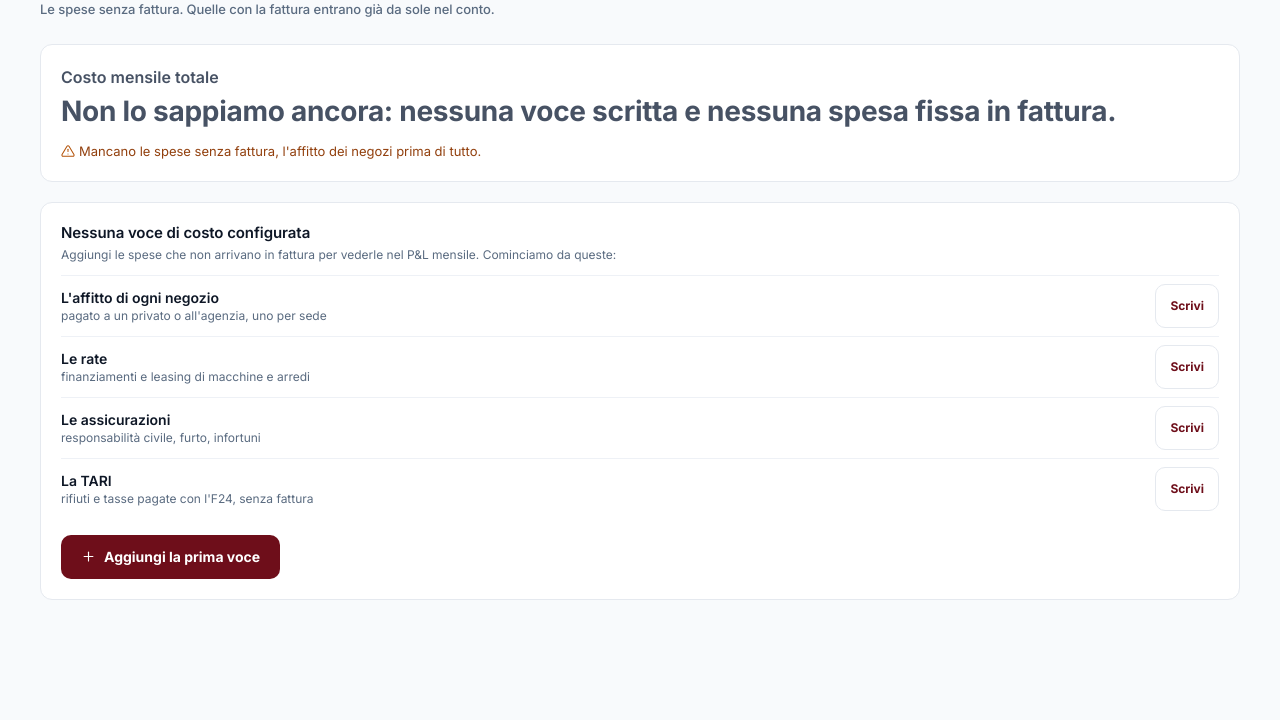
Costi fissi · ogni comando si raggiunge da tastiera › Esc chiude la finestra della voce
Click the button with aria-label "Aggiungi nuova voce di costo" at [171, 556], box [61, 534, 280, 578]
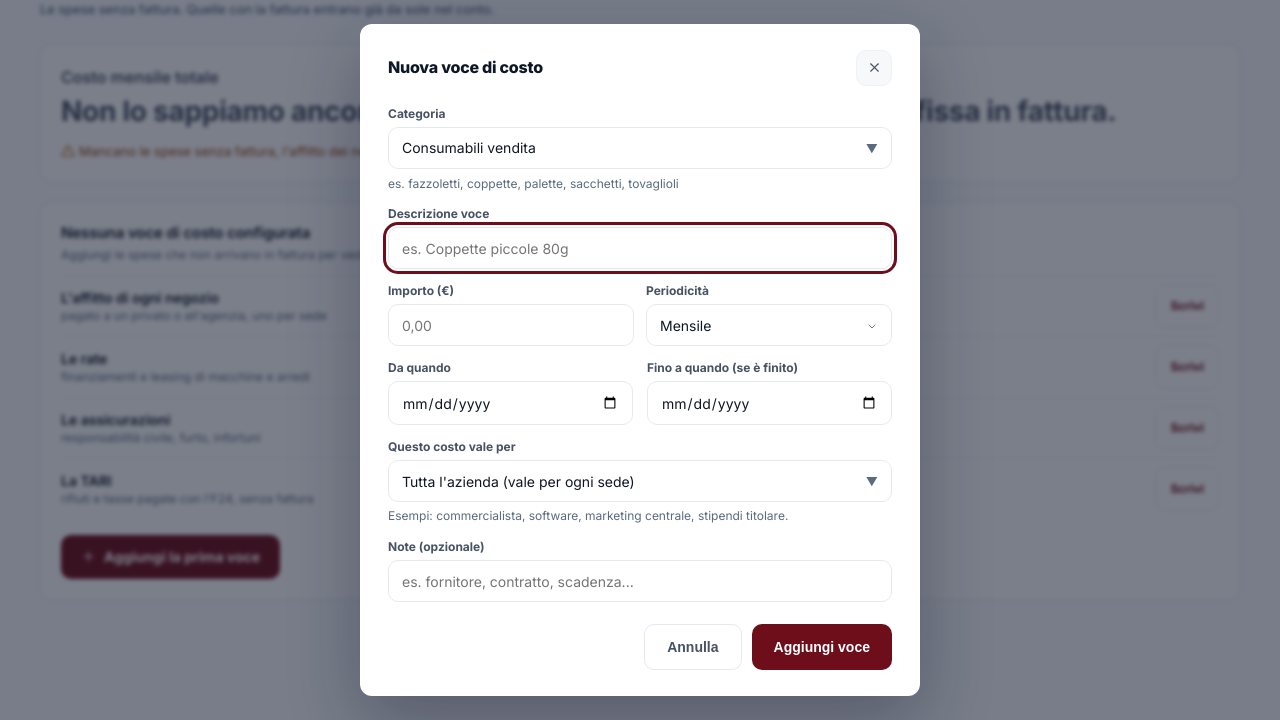
Now the dialog is shown
Press Escape
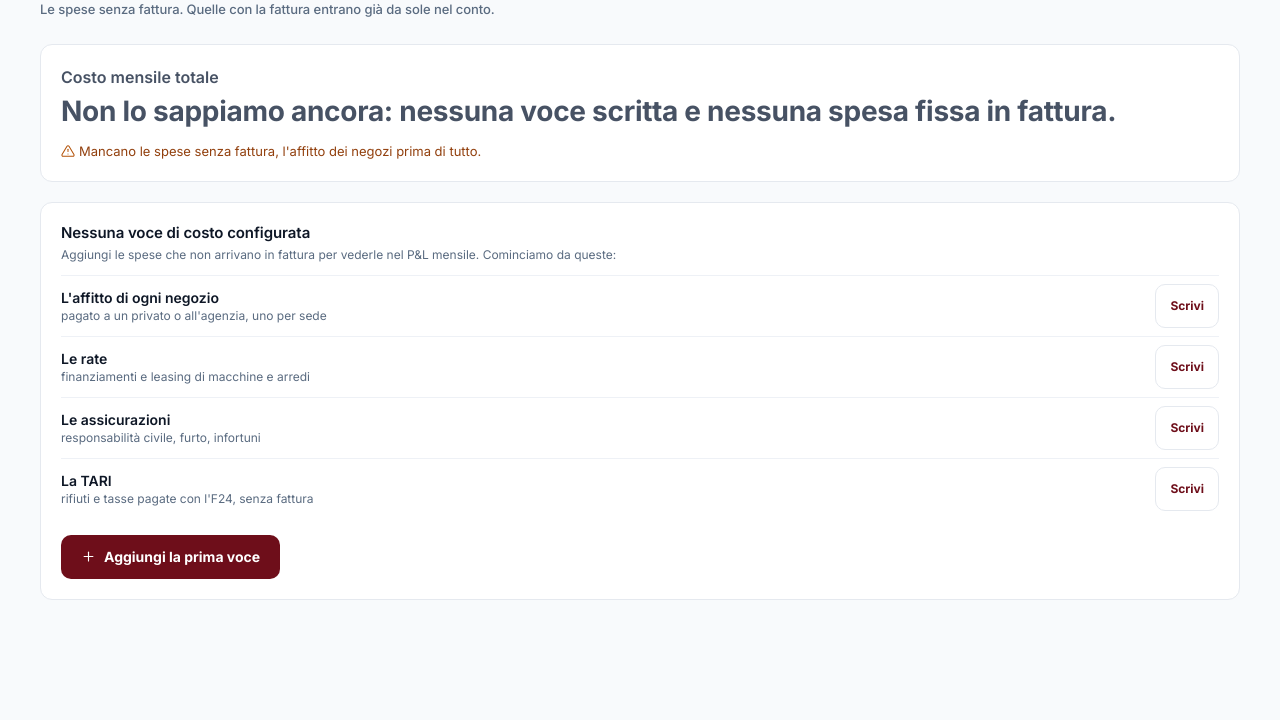
Now the dialog is gone
